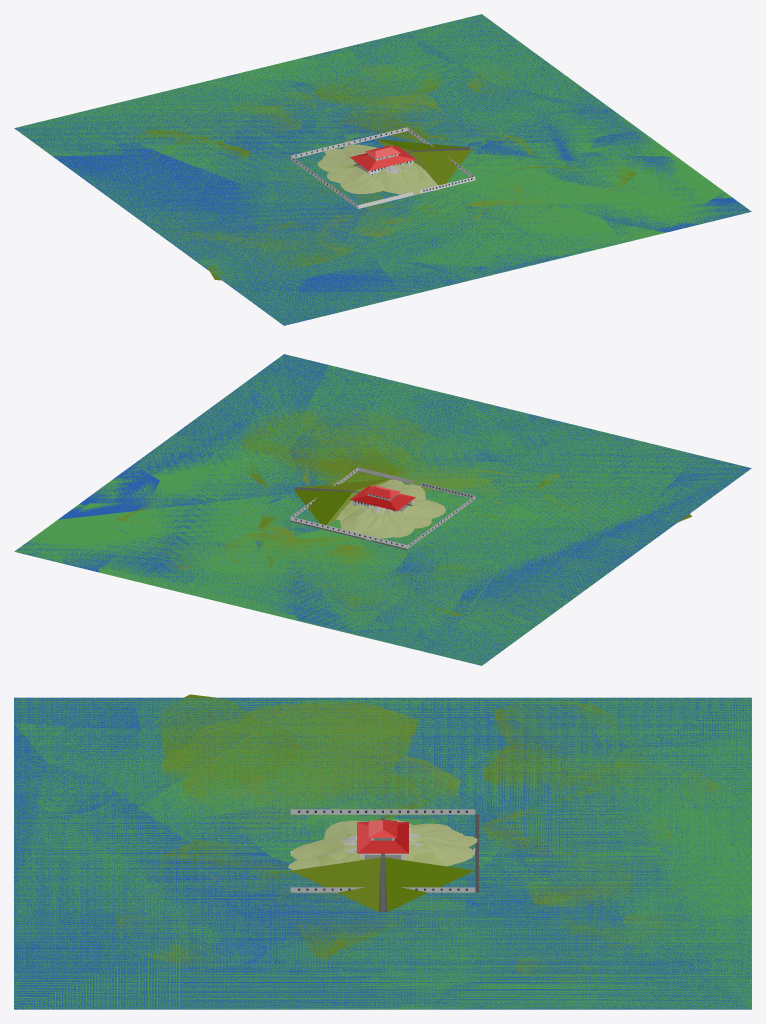
Rendered from vietnam.glb.
The picture shows the model from 3 angles, top to bottom: view 1: azimuth 30°, elevation 25°; view 2: azimuth 150°, elevation 25°; view 3: azimuth 270°, elevation 25°; orthographic projection. The views are drawn at different scales.
Parts seen in each view (by area): view 1: vietnam_128_lod0, vietnam_000_lod0, vietnam_152_lod0, vietnam_133_lod0, vietnam_137_lod0, vietnam_136_lod0, vietnam_132_lod0, vietnam_147_lod0, vietnam_129_lod0, vietnam_131_lod0, vietnam_142_lod0, vietnam_130_lod0 (+19 smaller); view 2: vietnam_000_lod0, vietnam_130_lod0, vietnam_128_lod0, vietnam_155_lod0, vietnam_136_lod0, vietnam_137_lod0, vietnam_129_lod0, vietnam_153_lod0, vietnam_154_lod0, vietnam_132_lod0, vietnam_133_lod0, vietnam_134_lod0 (+22 smaller); view 3: vietnam_000_lod0, vietnam_131_lod0, vietnam_128_lod0, vietnam_136_lod0, vietnam_135_lod0, vietnam_146_lod0, vietnam_107_lod0_forest, vietnam_134_lod0, vietnam_106_lod0_forest, vietnam_139_lod0, vietnam_143_lod0, vietnam_129_lod0 (+25 smaller).
Part boxes in pixels (x1=…): vietnam_128_lod0: x1=14, y1=14, x2=749, y2=325; vietnam_000_lod0: x1=14, y1=14, x2=750, y2=325; vietnam_152_lod0: x1=50, y1=36, x2=744, y2=321; vietnam_133_lod0: x1=17, y1=17, x2=740, y2=321; vietnam_137_lod0: x1=20, y1=19, x2=740, y2=323; vietnam_136_lod0: x1=18, y1=15, x2=745, y2=322; vietnam_132_lod0: x1=22, y1=15, x2=746, y2=322; vietnam_147_lod0: x1=38, y1=26, x2=707, y2=323; vietnam_129_lod0: x1=17, y1=15, x2=747, y2=324; vietnam_131_lod0: x1=15, y1=15, x2=749, y2=325; vietnam_142_lod0: x1=32, y1=23, x2=734, y2=307; vietnam_130_lod0: x1=16, y1=14, x2=748, y2=324; vietnam_000_lod0: x1=14, y1=354, x2=751, y2=665; vietnam_130_lod0: x1=18, y1=357, x2=750, y2=664; vietnam_128_lod0: x1=17, y1=354, x2=751, y2=665; vietnam_155_lod0: x1=25, y1=365, x2=717, y2=637; vietnam_136_lod0: x1=28, y1=357, x2=740, y2=664; vietnam_137_lod0: x1=18, y1=356, x2=734, y2=657; vietnam_129_lod0: x1=19, y1=354, x2=750, y2=664; vietnam_153_lod0: x1=178, y1=366, x2=737, y2=651; vietnam_154_lod0: x1=127, y1=364, x2=732, y2=653; vietnam_132_lod0: x1=24, y1=356, x2=745, y2=662; vietnam_133_lod0: x1=19, y1=357, x2=747, y2=663; vietnam_134_lod0: x1=19, y1=360, x2=741, y2=658; vietnam_000_lod0: x1=14, y1=697, x2=751, y2=1009; vietnam_131_lod0: x1=14, y1=697, x2=751, y2=1009; vietnam_128_lod0: x1=14, y1=697, x2=751, y2=1009; vietnam_136_lod0: x1=14, y1=697, x2=751, y2=1009; vietnam_135_lod0: x1=14, y1=698, x2=751, y2=1007; vietnam_146_lod0: x1=15, y1=699, x2=750, y2=1007; vietnam_107_lod0_forest: x1=156, y1=701, x2=722, y2=968; vietnam_134_lod0: x1=14, y1=698, x2=751, y2=1009; vietnam_106_lod0_forest: x1=158, y1=694, x2=677, y2=946; vietnam_139_lod0: x1=14, y1=701, x2=751, y2=1008; vietnam_143_lod0: x1=14, y1=698, x2=750, y2=1009; vietnam_129_lod0: x1=14, y1=697, x2=751, y2=1009.
Size of what is drawn, in the model's own units: 4139 by 176 by 4096.
